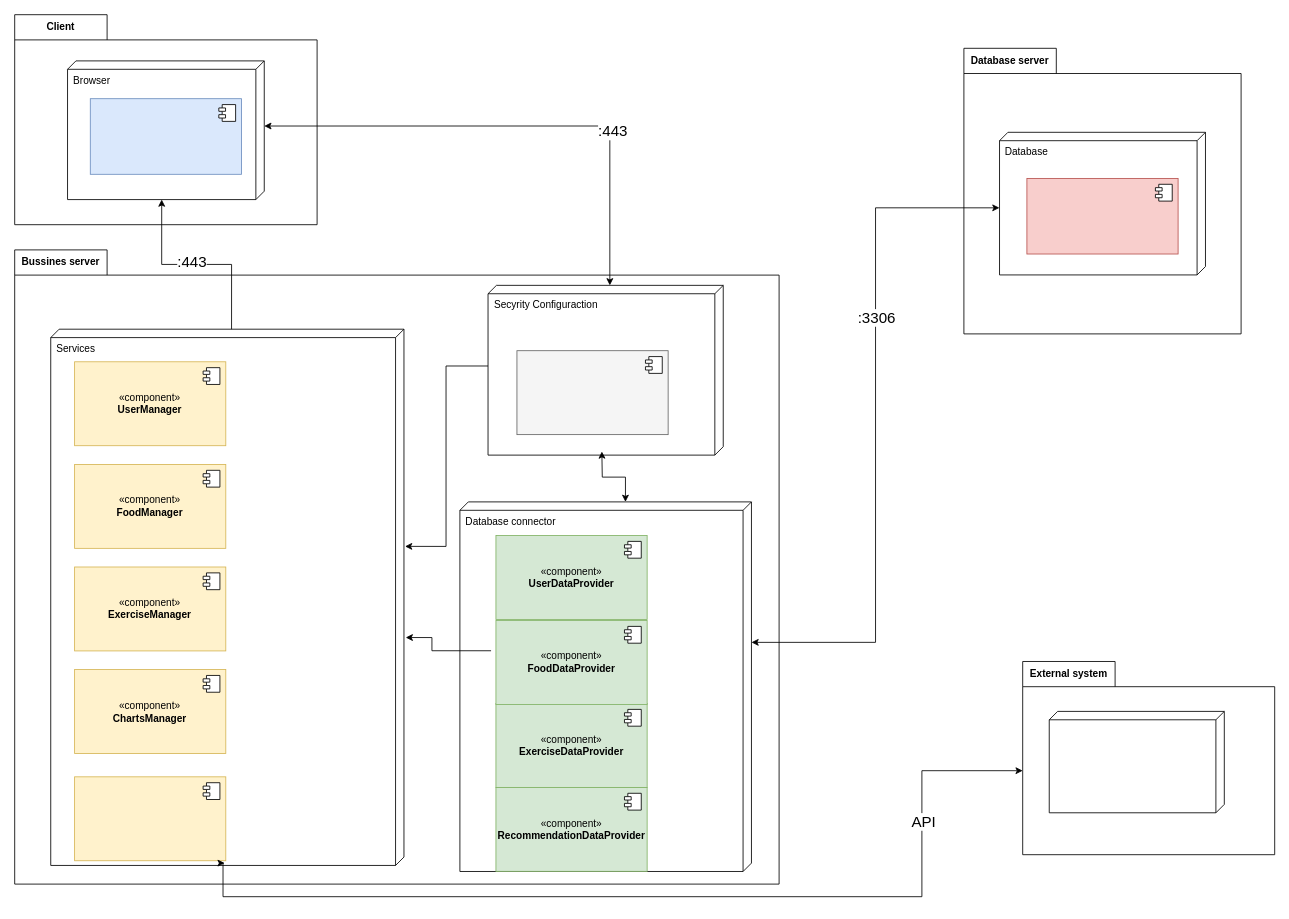
This 1289x919 diagram has some shape labels left out. The centre of each missing label's shape, as x and y in pixels:
"Dialogflow API" belongs at point (1136, 762).
"«component» AIRecommendationsManager" belongs at point (150, 818).
"«component» Authentication" belongs at point (592, 392).
"«component» Database" belongs at point (1102, 216).
"«component» User Interface" belongs at point (165, 136).
